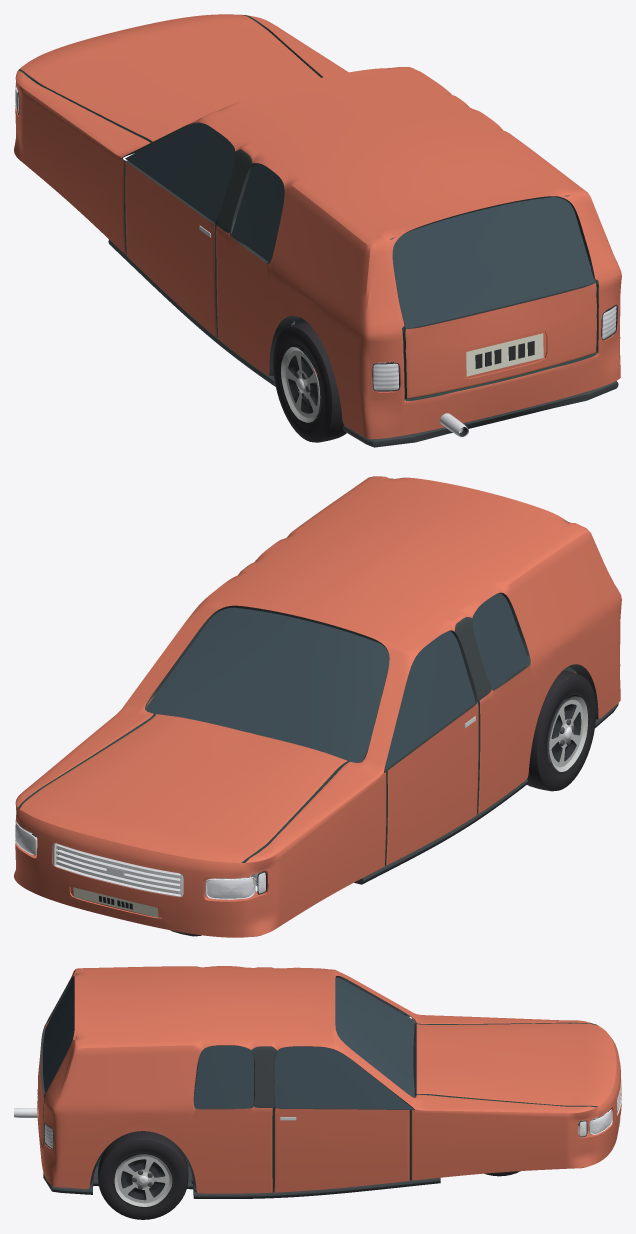
The model's file is forge_three_wheeler.fbx.
The picture shows the model from 3 angles, top to bottom: view 1: azimuth 30°, elevation 25°; view 2: azimuth 150°, elevation 25°; view 3: azimuth 270°, elevation 25°; orthographic projection. The views are drawn at different scales.
Visible parts, largest first — view 1: Body, Wheel_RL_Mesh; view 2: Body, Wheel_RL_Mesh; view 3: Body, Wheel_RR_Mesh.
Part boxes in pixels (box(x1,y1,x2,y2)): Body: box(14, 14, 621, 447); Wheel_RL_Mesh: box(273, 321, 346, 442); Body: box(14, 476, 621, 937); Wheel_RL_Mesh: box(527, 670, 596, 791); Body: box(14, 966, 621, 1198); Wheel_RR_Mesh: box(98, 1131, 188, 1219).
Bounding box in the file's own units: 133 × 111 × 345.
